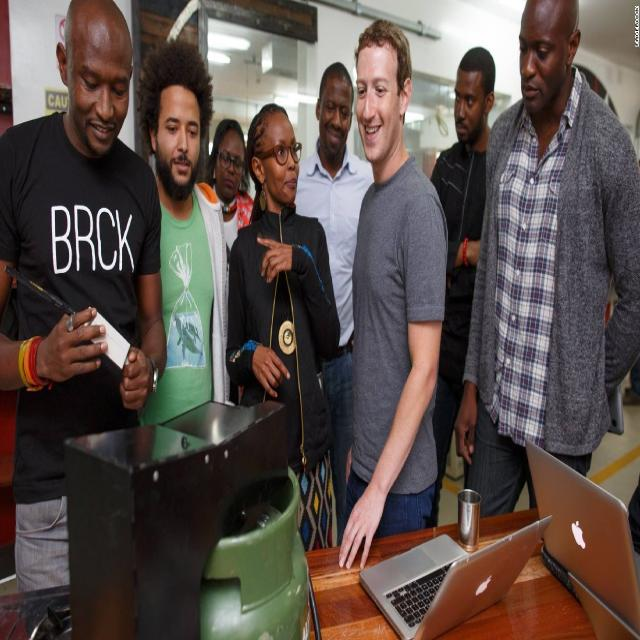body: (0, 0, 168, 597), (452, 0, 640, 522), (337, 14, 448, 574), (225, 100, 342, 558), (291, 59, 376, 547), (424, 44, 506, 532), (134, 35, 232, 429), (208, 116, 255, 405), (608, 367, 639, 433), (626, 476, 637, 562)
